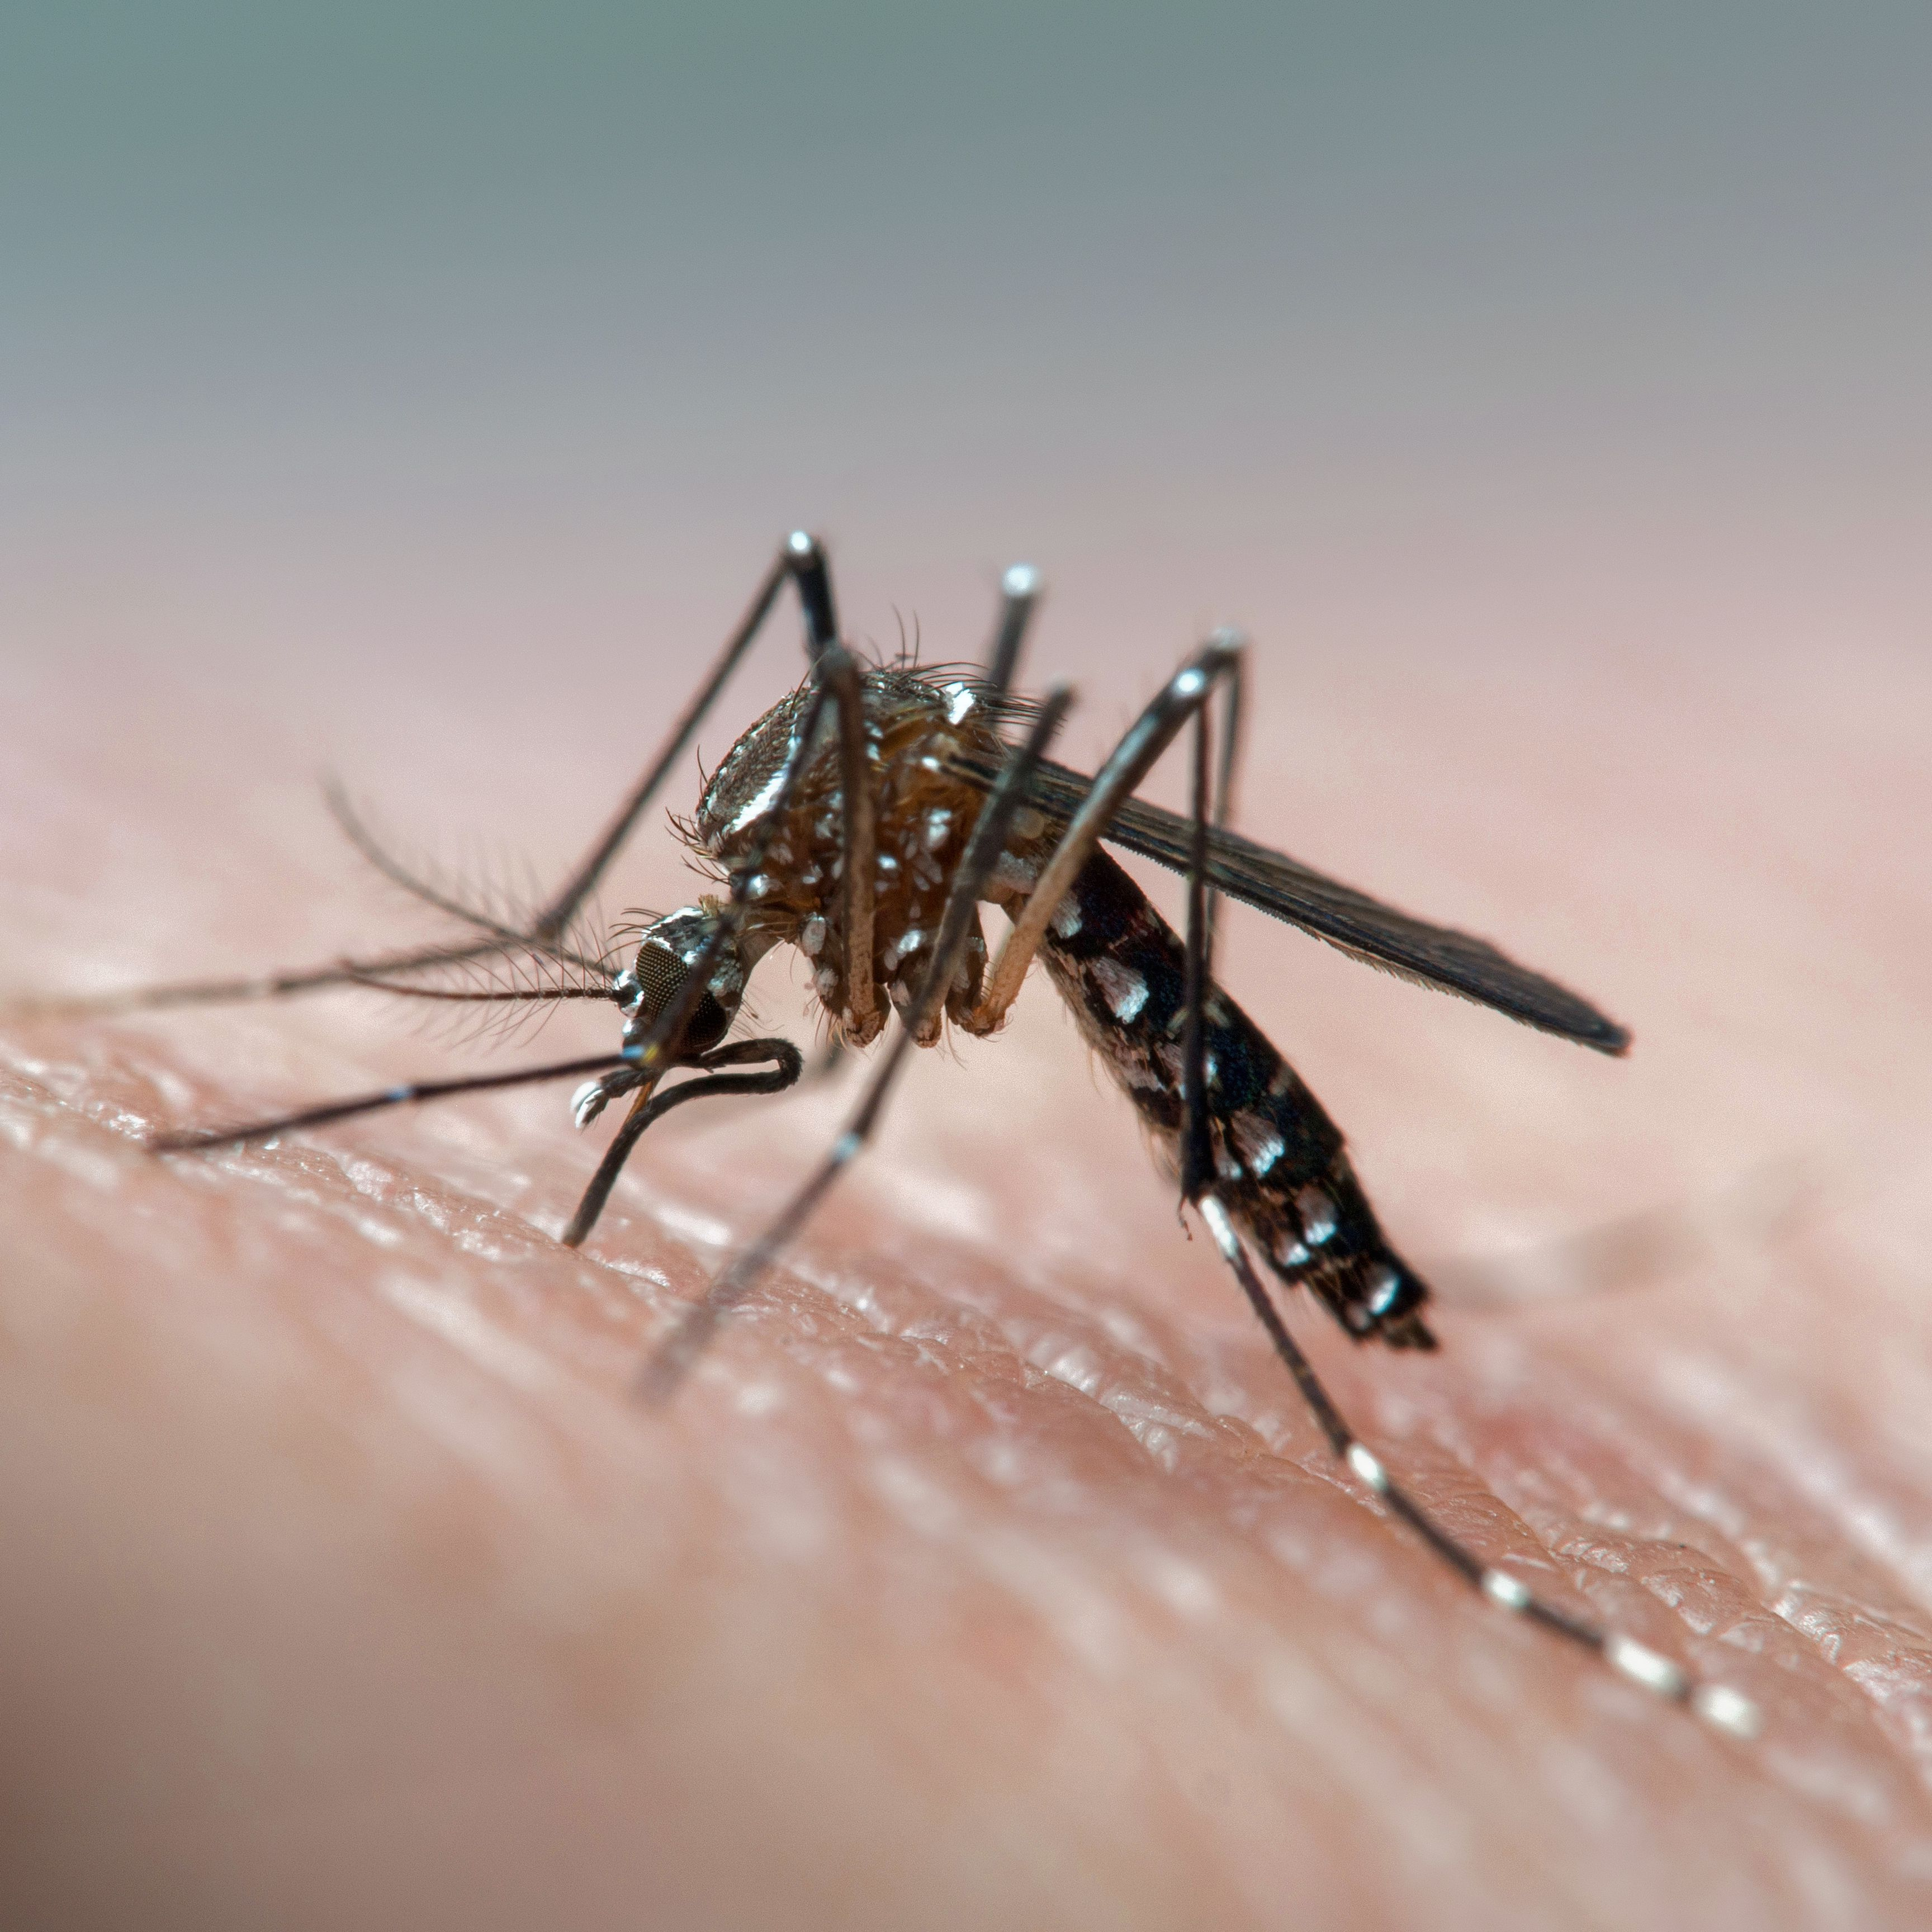dengue_mosquito: (168, 533, 1633, 1357)
